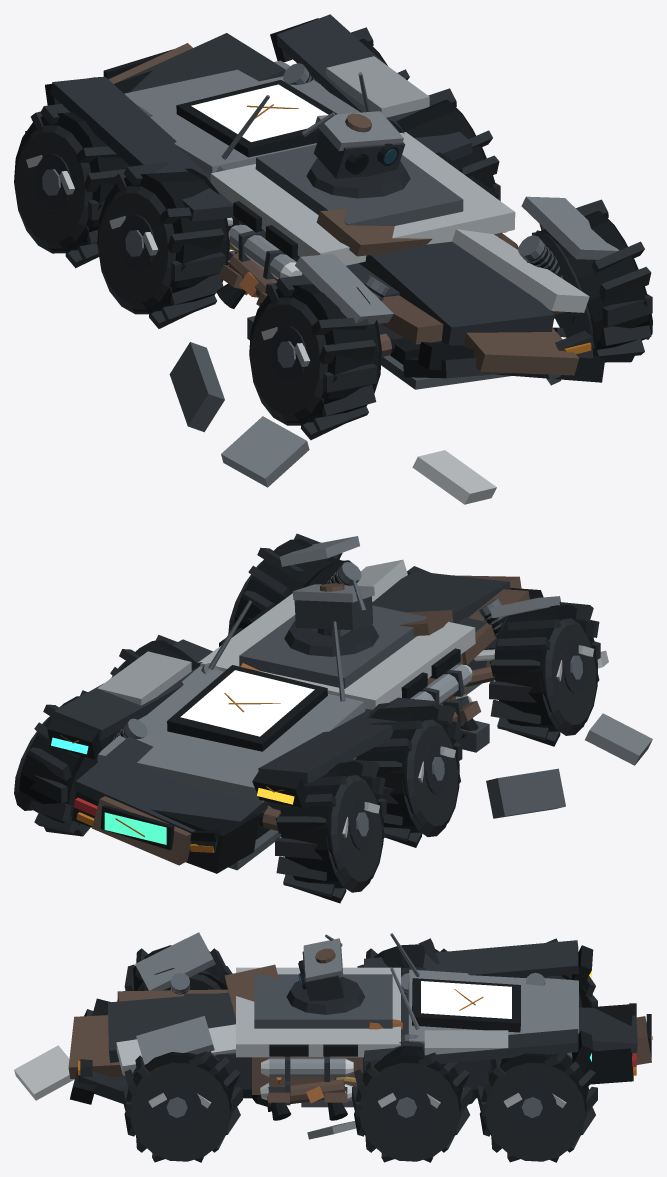
Rendered from r47xs_recon_rover_d2_lod0.meshopt.glb.
The picture shows the model from 3 angles, top to bottom: view 1: azimuth 30°, elevation 25°; view 2: azimuth 150°, elevation 25°; view 3: azimuth 270°, elevation 25°; orthographic projection. The views are drawn at different scales.
Parts seen in each view (by area): view 1: CHASSIS_ARMOR_BODY, ZONE_FRONT_BUMPER, WHEEL_ML, WHEEL_FL, ZONE_FLANK_NEG_X, WHEEL_RL, WHEEL_FR, ZONE_FLANK_POS_X, ZONE_REAR_PANEL, SENSOR_MAST_HEAD, DISPLAY_FDAI_TELEMETRY_PANEL, WHEEL_MR (+6 smaller); view 2: CHASSIS_ARMOR_BODY, ZONE_REAR_PANEL, WHEEL_FL, WHEEL_RL, WHEEL_ML, ZONE_FRONT_BUMPER, ZONE_FLANK_NEG_X, WHEEL_RR, ZONE_FLANK_POS_X, DISPLAY_FDAI_TELEMETRY_PANEL, WHEEL_FR, SENSOR_MAST_HEAD (+9 smaller); view 3: CHASSIS_ARMOR_BODY, ZONE_FRONT_BUMPER, WHEEL_MR, WHEEL_FR, WHEEL_RR, ZONE_FLANK_POS_X, ZONE_FLANK_NEG_X, ZONE_REAR_PANEL, DISPLAY_FDAI_TELEMETRY_PANEL, SENSOR_MAST_HEAD, DEBRIS_FRONT_BEAK, DEBRIS_FENDER_POS_X (+7 smaller).
Part boxes in pixels (x1=…): CHASSIS_ARMOR_BODY: x1=124, y1=60, x2=515, y2=364; ZONE_FRONT_BUMPER: x1=295, y1=196, x2=619, y2=389; WHEEL_ML: x1=97, y1=162, x2=229, y2=328; WHEEL_FL: x1=249, y1=275, x2=381, y2=440; ZONE_FLANK_NEG_X: x1=45, y1=76, x2=303, y2=297; WHEEL_RL: x1=14, y1=103, x2=130, y2=268; WHEEL_FR: x1=532, y1=199, x2=652, y2=362; ZONE_FLANK_POS_X: x1=270, y1=14, x2=507, y2=239; ZONE_REAR_PANEL: x1=103, y1=33, x2=285, y2=93; SENSOR_MAST_HEAD: x1=302, y1=111, x2=405, y2=178; DISPLAY_FDAI_TELEMETRY_PANEL: x1=191, y1=84, x2=328, y2=142; WHEEL_MR: x1=390, y1=88, x2=500, y2=200; CHASSIS_ARMOR_BODY: x1=97, y1=593, x2=488, y2=839; ZONE_REAR_PANEL: x1=72, y1=736, x2=281, y2=873; WHEEL_FL: x1=489, y1=602, x2=600, y2=746; WHEEL_RL: x1=275, y1=759, x2=386, y2=903; WHEEL_ML: x1=356, y1=703, x2=462, y2=847; ZONE_FRONT_BUMPER: x1=280, y1=536, x2=560, y2=694; ZONE_FLANK_NEG_X: x1=252, y1=621, x2=472, y2=807; WHEEL_RR: x1=14, y1=690, x2=122, y2=836; ZONE_FLANK_POS_X: x1=47, y1=600, x2=276, y2=759; DISPLAY_FDAI_TELEMETRY_PANEL: x1=180, y1=670, x2=314, y2=736; WHEEL_FR: x1=228, y1=533, x2=351, y2=633; SENSOR_MAST_HEAD: x1=293, y1=579, x2=374, y2=636; CHASSIS_ARMOR_BODY: x1=184, y1=964, x2=578, y2=1107; ZONE_FRONT_BUMPER: x1=68, y1=932, x2=235, y2=1104; WHEEL_MR: x1=352, y1=1041, x2=472, y2=1162; WHEEL_FR: x1=122, y1=1051, x2=242, y2=1162; WHEEL_RR: x1=477, y1=1053, x2=597, y2=1162; ZONE_FLANK_POS_X: x1=252, y1=967, x2=593, y2=1106; ZONE_FLANK_NEG_X: x1=364, y1=933, x2=593, y2=987; ZONE_REAR_PANEL: x1=579, y1=1003, x2=651, y2=1084; DISPLAY_FDAI_TELEMETRY_PANEL: x1=421, y1=981, x2=511, y2=1018; SENSOR_MAST_HEAD: x1=298, y1=934, x2=344, y2=1000; DEBRIS_FRONT_BEAK: x1=14, y1=1045, x2=74, y2=1100; DEBRIS_FENDER_POS_X: x1=424, y1=1030, x2=508, y2=1055.
Bounding box in the file's own units: 2.97 × 1.65 × 5.18.
